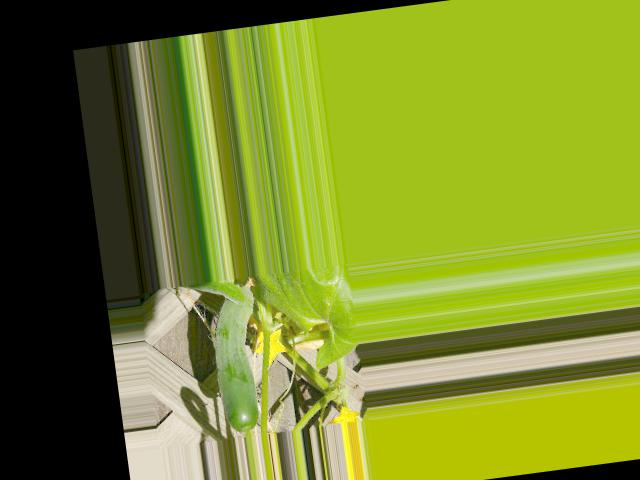cucumber: (204, 277, 270, 432)
